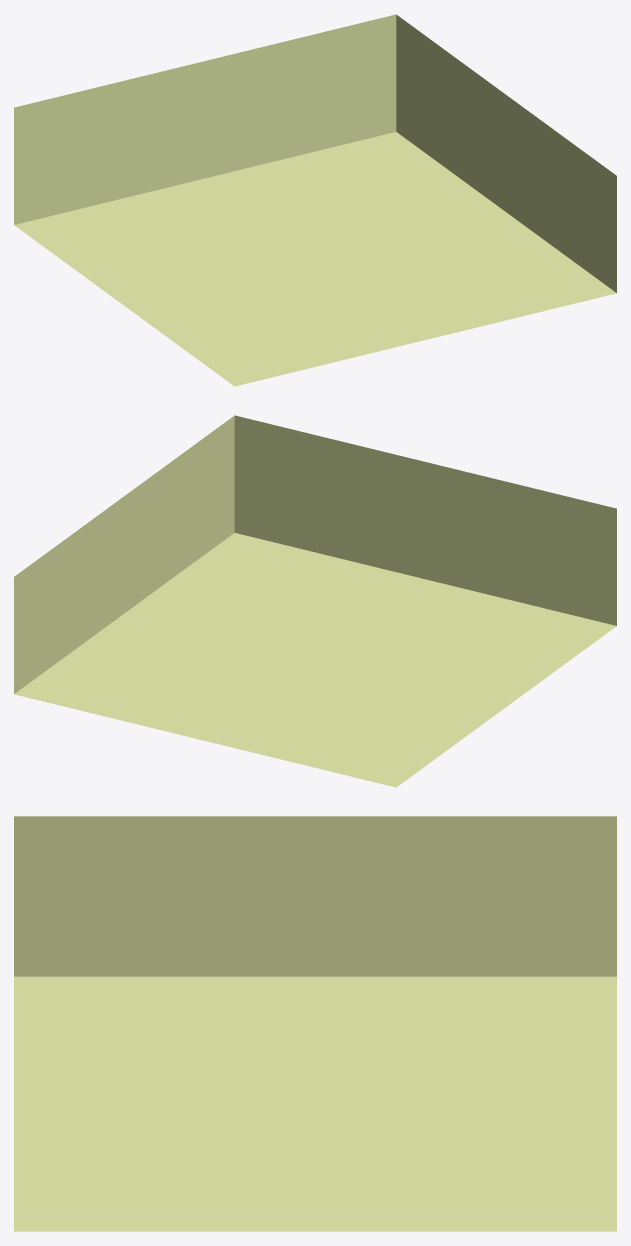
File: salle_test.glb
3 views of the same model, one above another, from view 1: azimuth 30°, elevation 25°; view 2: azimuth 150°, elevation 25°; view 3: azimuth 270°, elevation 25° (orthographic). The views are drawn at different scales.
Parts seen in each view (by area): view 1: Box004; view 2: Box004; view 3: Box004.
Part boxes in pixels (x1=…): Box004: x1=14, y1=14, x2=616, y2=386; Box004: x1=14, y1=415, x2=616, y2=787; Box004: x1=14, y1=816, x2=616, y2=1231.
Size of the model in its own units: 9.8 by 2.88 by 9.8.
